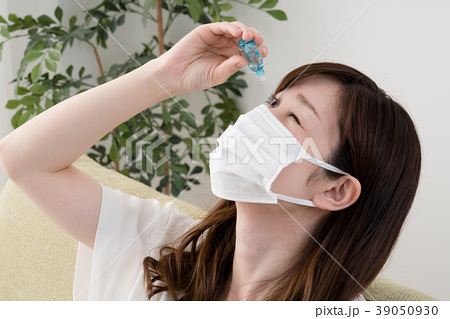mask: (201, 102, 289, 195)
